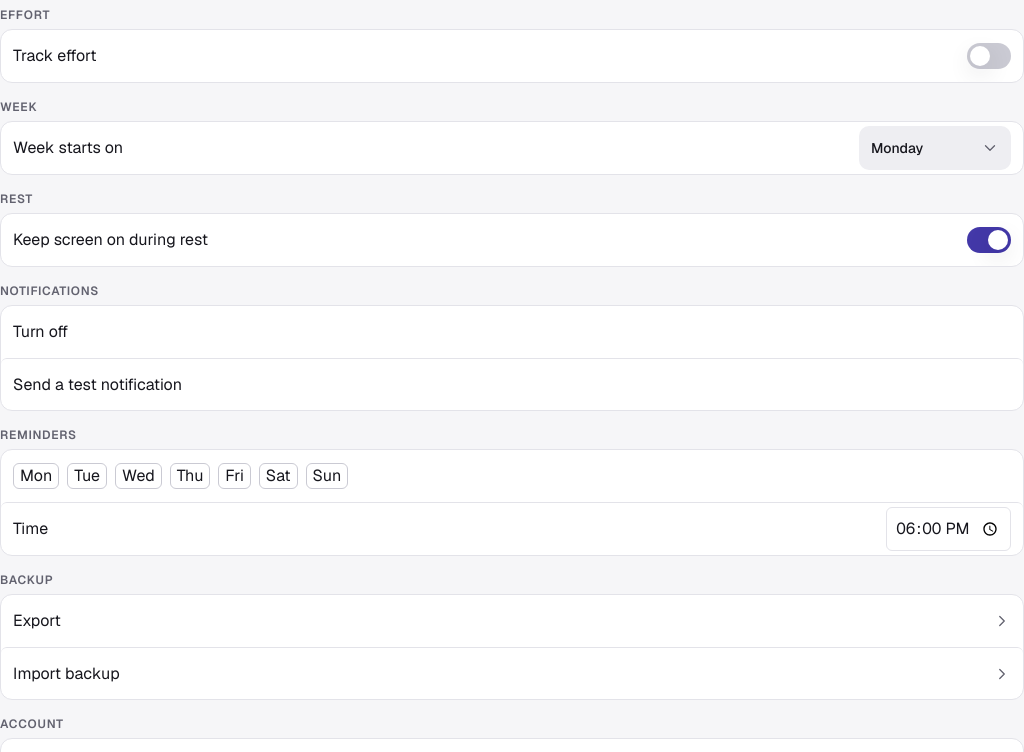
Test: E25-T1 O5 no subscribed device reads the turn-off-and-on line
(page scrolled)
What coordinates should you click on to do the following:
click the button "Send a test notification"
I would click on:
 (97, 384)
Its box is [1,358,1023,410].
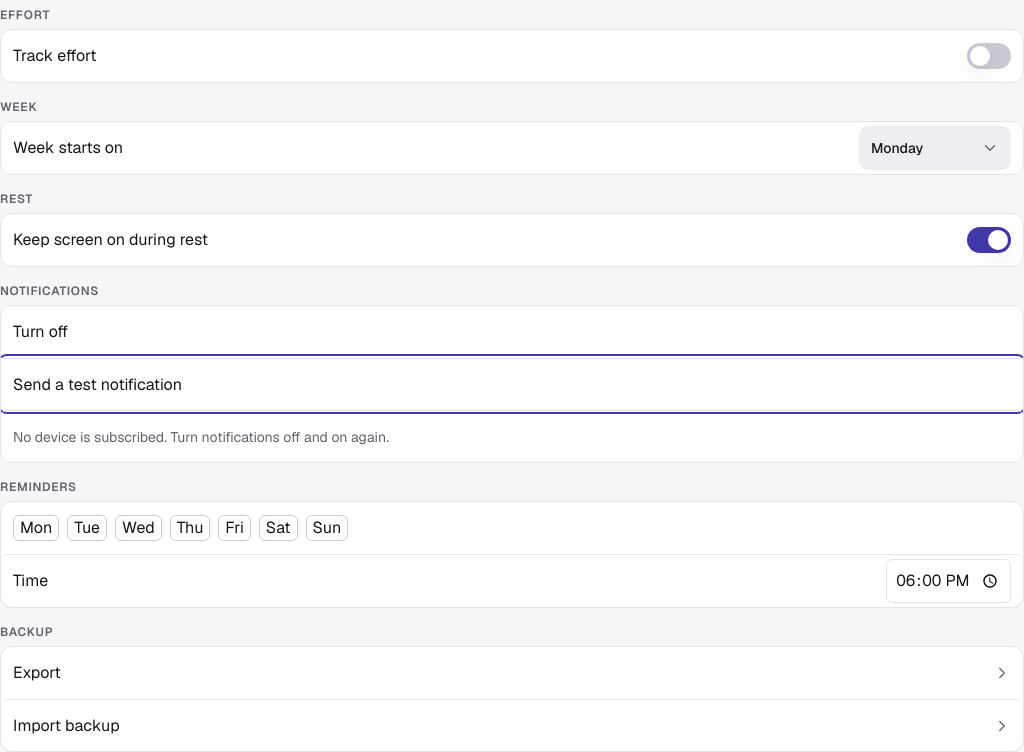
expect the text "No device is subscribed. Turn notifications off and on again." is shown: met, box [1,410,1023,462]
